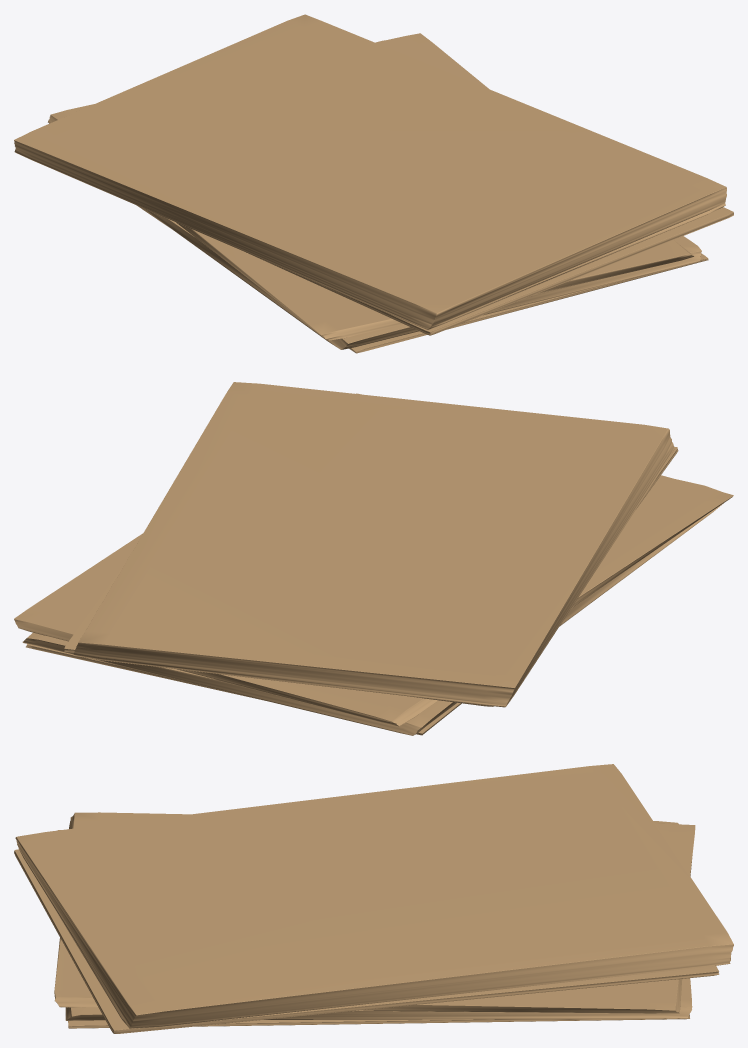
The model's file is paper_stack_a02.glb.
3 views of the same model, one above another, from view 1: azimuth 30°, elevation 25°; view 2: azimuth 150°, elevation 25°; view 3: azimuth 270°, elevation 25° (orthographic). The views are drawn at different scales.
Bounding box in the file's own units: 0.2838 × 0.0216 × 0.3442.
